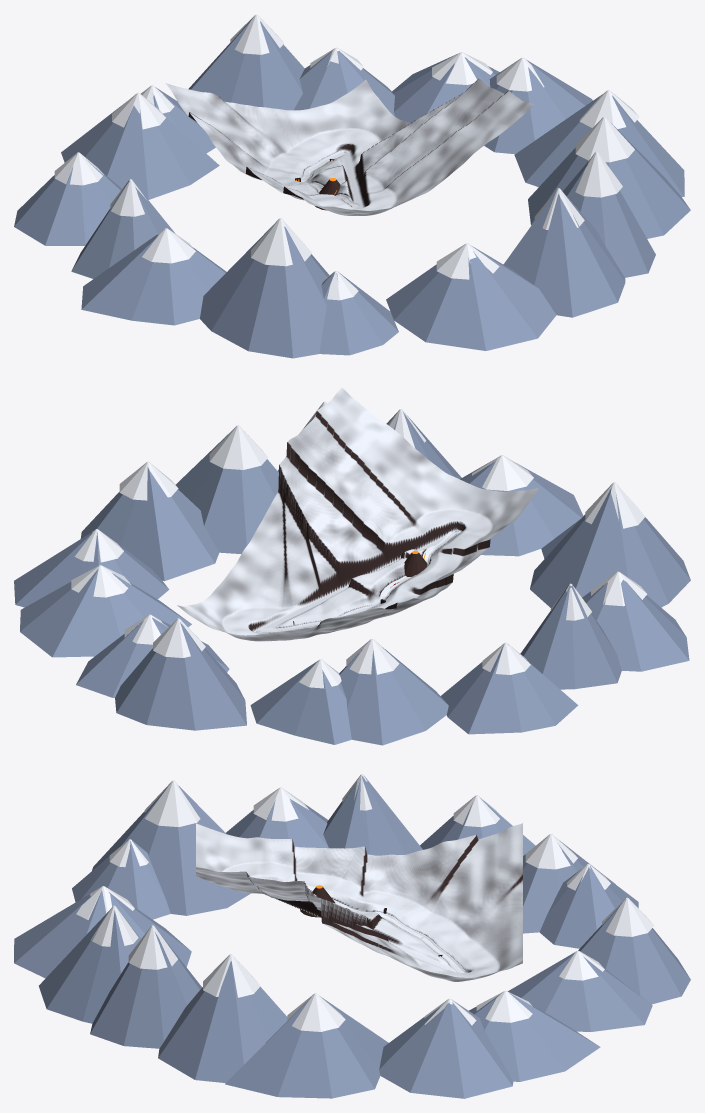
Rendered from pico_vulcanico.glb.
3 renders of one model, top to bottom at view 1: azimuth 30°, elevation 25°; view 2: azimuth 150°, elevation 25°; view 3: azimuth 270°, elevation 25°, orthographic. The views are drawn at different scales.
Parts seen in each view (by area): view 1: terrain, mtn4, mtn6, mtn3, mtn7, mtn10, mtn12, mtn1, mtn9, mtn0, mtn15, mtn2 (+20 smaller); view 2: terrain, mtn6, mtn12, mtn0, mtn14, mtn9, mtn10, mtn1, mtn8, mtn7, mtn11, mtn4 (+17 smaller); view 3: terrain, mtn0, mtn15, mtn1, mtn2, mtn6, mtn13, mtn14, mtn3, mtn12, mtn4, mtn8 (+19 smaller).
Part boxes in pixels (x1,y1,x2,y2): terrain: [165, 78, 534, 215]; mtn4: [386, 246, 556, 350]; mtn6: [200, 225, 329, 358]; mtn3: [503, 191, 625, 317]; mtn7: [81, 234, 226, 325]; mtn10: [61, 101, 219, 199]; mtn12: [188, 18, 304, 110]; mtn1: [528, 123, 690, 238]; mtn9: [14, 154, 121, 245]; mtn0: [514, 95, 684, 196]; mtn15: [484, 60, 592, 154]; mtn2: [562, 154, 655, 277]; terrain: [177, 387, 538, 641]; mtn6: [530, 488, 690, 607]; mtn12: [115, 622, 246, 730]; mtn0: [80, 467, 219, 581]; mtn14: [20, 569, 191, 657]; mtn9: [441, 644, 578, 734]; mtn10: [339, 647, 448, 745]; mtn1: [175, 434, 278, 553]; mtn8: [520, 585, 621, 689]; mtn7: [582, 579, 689, 671]; mtn11: [250, 661, 351, 744]; mtn4: [460, 460, 583, 556]; terrain: [196, 823, 522, 981]; mtn0: [225, 996, 388, 1098]; mtn15: [379, 1000, 513, 1098]; mtn1: [158, 961, 287, 1082]; mtn2: [90, 931, 201, 1048]; mtn6: [92, 785, 250, 915]; mtn13: [508, 952, 652, 1031]; mtn14: [469, 993, 600, 1081]; mtn3: [39, 910, 140, 1023]; mtn12: [578, 903, 690, 1004]; mtn4: [14, 890, 191, 978]; mtn8: [323, 776, 422, 855].
Size of what is drawn, in the model's own units: 3043 by 696 by 3069.
